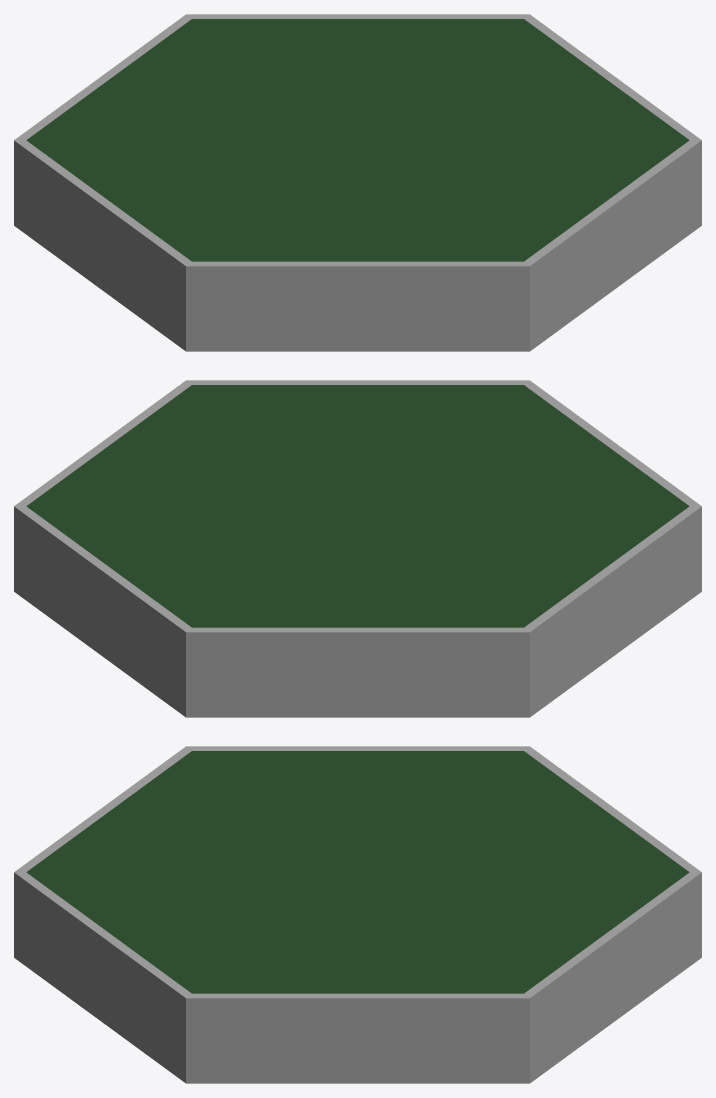
The model's file is gridgrass 1.fbx.
The picture shows the model from 3 angles, top to bottom: view 1: azimuth 30°, elevation 25°; view 2: azimuth 150°, elevation 25°; view 3: azimuth 270°, elevation 25°; orthographic projection.
Parts seen in each view (by area): view 1: pCylinder25; view 2: pCylinder25; view 3: pCylinder25.
Part boxes in pixels (x1,y1,x2,y2): pCylinder25: (14, 14, 701, 351); pCylinder25: (14, 380, 701, 717); pCylinder25: (14, 746, 701, 1083).
Bounding box in the file's own units: 86.6 × 13.69 × 100.
